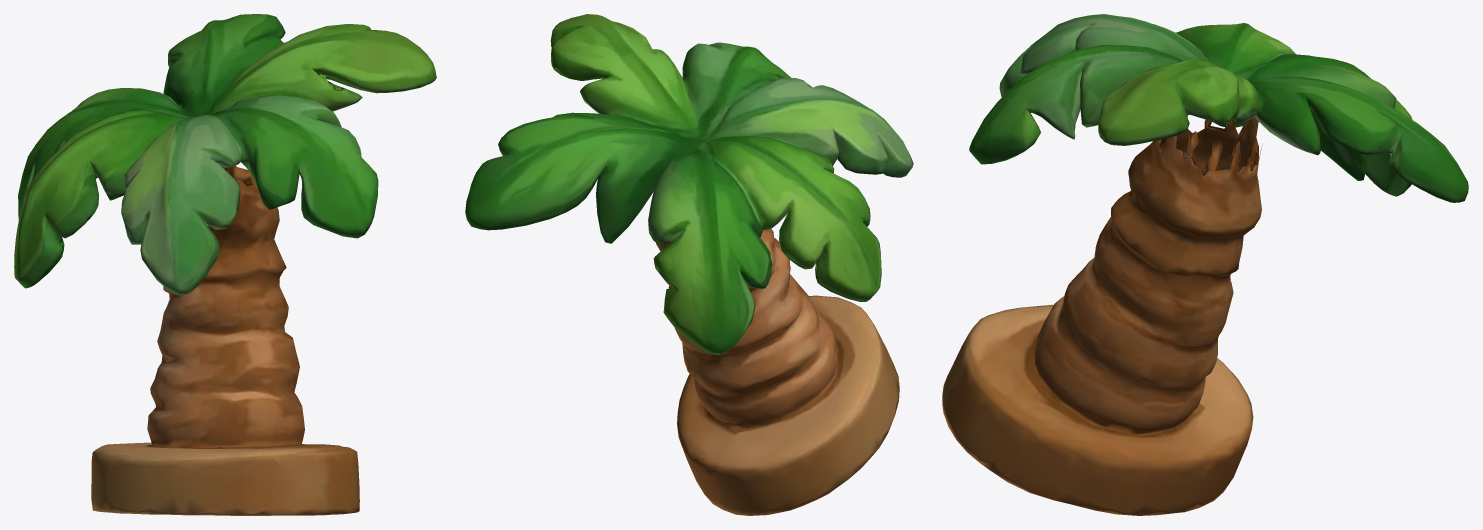
File: sw-palm-b.glb
The picture shows the model from 3 angles, left to right: view 1: azimuth 30°, elevation 25°; view 2: azimuth 150°, elevation 25°; view 3: azimuth 270°, elevation 25°; orthographic projection. The views are drawn at different scales.
Parts seen in each view (by area): view 1: world; view 2: world; view 3: world.
Boxes of the visible parts, left/top/right/bottom form: world: left=14, top=14, right=436, bottom=515; world: left=465, top=14, right=913, bottom=515; world: left=942, top=14, right=1468, bottom=515.
Size of the model in its own units: 0.7538 by 0.8794 by 0.839.
1 material, 1 textured.
